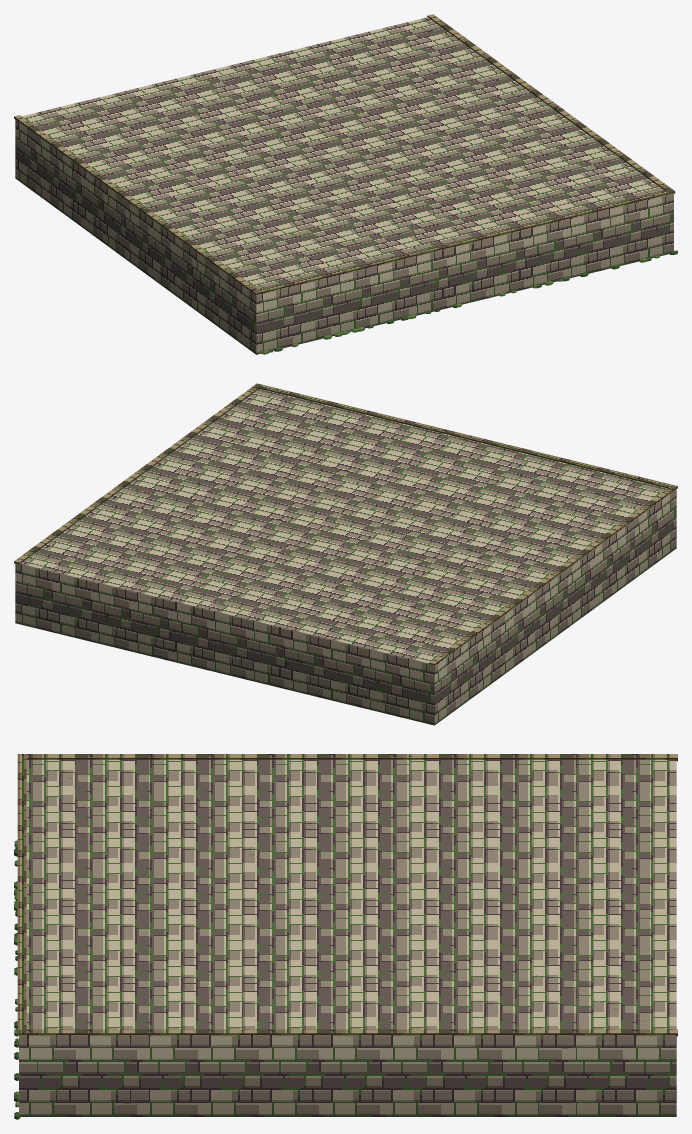
The model's file is scene_wall_w0.glb.
The picture shows the model from 3 angles, top to bottom: view 1: azimuth 30°, elevation 25°; view 2: azimuth 150°, elevation 25°; view 3: azimuth 270°, elevation 25°; orthographic projection. The views are drawn at different scales.
Visible parts, largest first — view 1: scene_wall_w0; view 2: scene_wall_w0; view 3: scene_wall_w0.
Part boxes in pixels (<box>): scene_wall_w0: <box>14,14,677,354</box>; scene_wall_w0: <box>14,383,677,725</box>; scene_wall_w0: <box>14,754,677,1119</box>.
Size of the model in its own units: 26.26 by 3.77 by 26.24.
2 materials, 1 textured.
